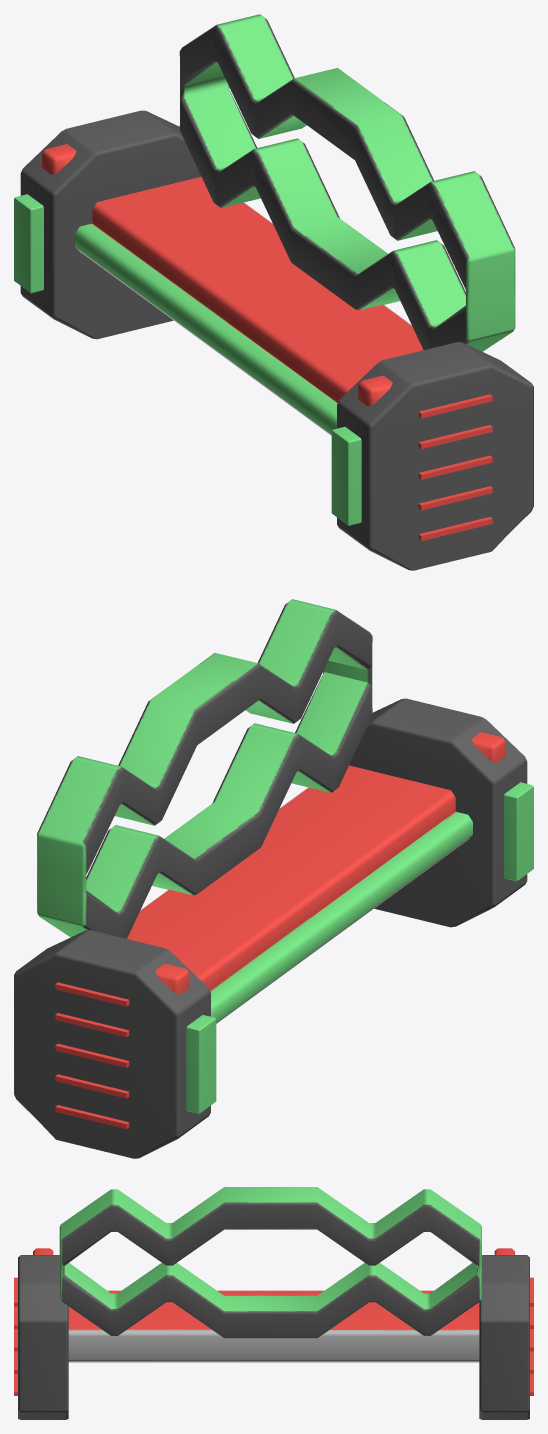
File: SM_Bench_01.fbx
3 renders of one model, top to bottom at view 1: azimuth 30°, elevation 25°; view 2: azimuth 150°, elevation 25°; view 3: azimuth 270°, elevation 25°, orthographic. The views are drawn at different scales.
Visible parts, largest first — view 1: SM_Bench_01; view 2: SM_Bench_01; view 3: SM_Bench_01.
Part boxes in pixels (x1,y1,x2,y2): SM_Bench_01: [14, 14, 533, 570]; SM_Bench_01: [14, 599, 533, 1158]; SM_Bench_01: [14, 1187, 533, 1419].
Size of the model in its own units: 62.43 by 203 by 101.
